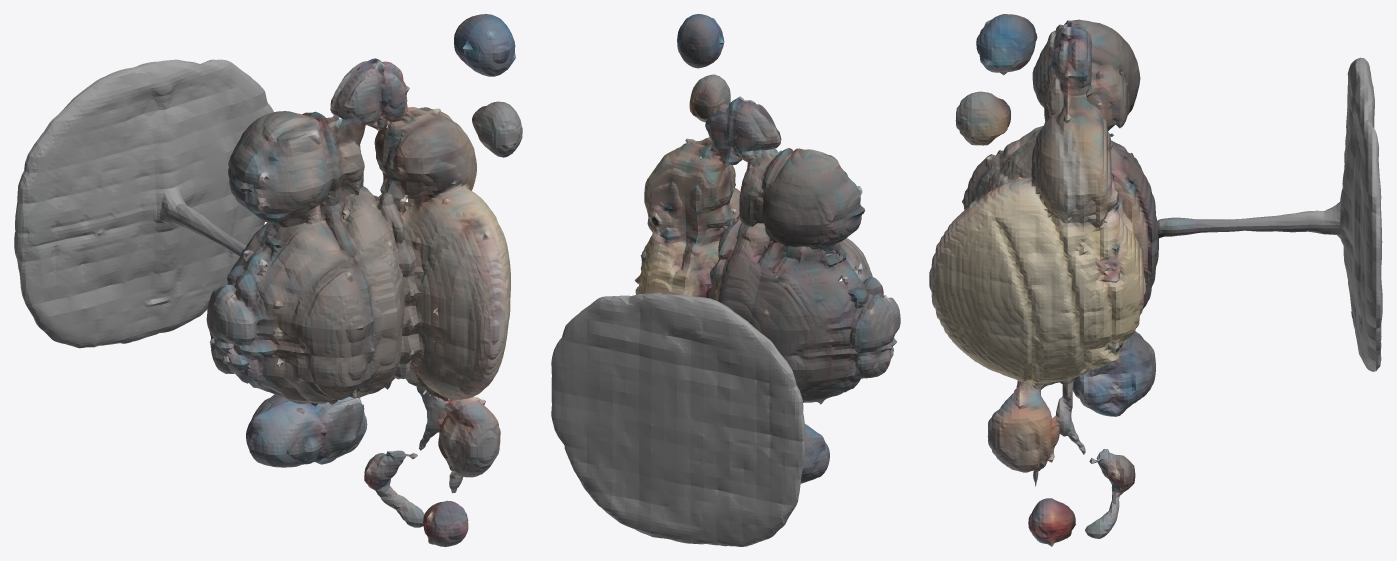
The model's file is 264454d0-13d1-45ad-901d-dbd13cdacd79.glb.
The picture shows the model from 3 angles, left to right: view 1: azimuth 30°, elevation 25°; view 2: azimuth 150°, elevation 25°; view 3: azimuth 270°, elevation 25°; orthographic projection. The views are drawn at different scales.
Parts seen in each view (by area): view 1: world; view 2: world; view 3: world.
Part boxes in pixels (x1=…): world: x1=14, y1=14, x2=522, y2=546; world: x1=551, y1=14, x2=900, y2=546; world: x1=929, y1=14, x2=1382, y2=546.
Bounding box in the file's own units: 0.6228 × 0.9993 × 0.7691.
